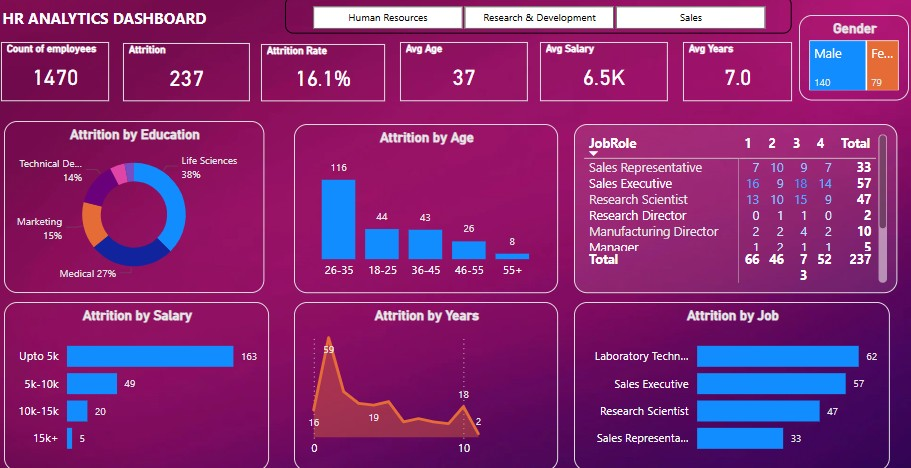

Layout of this report page (visuals, bound fields, positions):
{"tool":"powerbi","page":{"name":"Page 1","canvas":[1280,720],"ordinal":0},"visuals":[{"type":"card","title":"Count of employees","fields":{"Values":["Count(HR_Analytics.EmpID)"]},"box":[172.8,48.9,115.2,63],"z":0},{"type":"card","title":"Attrition","fields":{"Values":["Sum(HR_Analytics.Attrition_Count)"]},"box":[302.2,50,134.8,62],"z":1000},{"type":"card","title":"Attrition Rate","fields":{"Values":["HR_Analytics.Attrition_Rate"]},"box":[448.9,51.1,131.5,60.9],"z":2000},{"type":"card","title":"Avg Age","fields":{"Values":["Avg(HR_Analytics.Age)"]},"box":[596.7,48.9,135.9,63],"z":3000},{"type":"card","title":"Avg Salary","fields":{"Values":["Avg(HR_Analytics.MonthlyIncome)"]},"box":[745.7,48.9,135.9,63],"z":4000},{"type":"card","title":"Avg Years","fields":{"Values":["Avg(HR_Analytics.YearsAtCompany)"]},"box":[897.8,48.9,116.3,63],"z":5000},{"type":"donutChart","title":"Attrition by Education","fields":{"Category":["HR_Analytics.EducationField"],"Y":["Sum(HR_Analytics.Attrition_Count)"]},"box":[172.8,135.9,276.1,183.7],"z":6000},{"type":"columnChart","title":"Attrition by Age","fields":{"Category":["HR_Analytics.AgeGroup"],"Y":["Sum(HR_Analytics.Attrition_Count)"]},"box":[477.2,139.1,281.5,180.4],"z":7000},{"type":"pivotTable","fields":{"Rows":["HR_Analytics.JobRole"],"Columns":["HR_Analytics.JobSatisfaction"],"Values":["Sum(HR_Analytics.Attrition_Count)"]},"box":[778.3,139.1,344.6,180.4],"z":8000},{"type":"barChart","title":"Attrition by Salary","fields":{"Category":["HR_Analytics.SalarySlab"],"Y":["Sum(HR_Analytics.Attrition_Count)"]},"box":[172.8,338,281.5,180.4],"z":9000},{"type":"barChart","title":"Attrition by Job","fields":{"Y":["Sum(HR_Analytics.Attrition_Count)"],"Category":["HR_Analytics.JobRole"]},"box":[785.9,338,337,180.4],"z":10000},{"type":"areaChart","title":"Attrition by Years","fields":{"Category":["HR_Analytics.YearsAtCompany"],"Y":["Sum(HR_Analytics.Attrition_Count)"]},"box":[482.6,338,281.5,180.4],"z":11000},{"type":"treemap","title":"Gender","fields":{"Group":["HR_Analytics.Gender"],"Values":["Sum(HR_Analytics.Attrition_Count)"]},"box":[1022.8,20.7,116.3,91.3],"z":12000},{"type":"slicer","fields":{"Values":["HR_Analytics.Department"]},"box":[437,0,539.1,40.2],"z":13000},{"type":"textbox","box":[127.2,4.3,309.8,32.6],"z":14000}]}

Visuals, with their boxes on the page's 1280x720 design canvas (x1, y1, x2, y2). These are canvas units, not pixel positions in the 911x468 screenshot, which may show the page scaled, cropped or inside an application window:
"Count of employees" card: box=[173, 49, 288, 112]
"Attrition" card: box=[302, 50, 437, 112]
"Attrition Rate" card: box=[449, 51, 580, 112]
"Avg Age" card: box=[597, 49, 733, 112]
"Avg Salary" card: box=[746, 49, 882, 112]
"Avg Years" card: box=[898, 49, 1014, 112]
"Attrition by Education" donutChart: box=[173, 136, 449, 320]
"Attrition by Age" columnChart: box=[477, 139, 759, 320]
pivotTable - HR_Analytics.JobRole x HR_Analytics.JobSatisfaction: box=[778, 139, 1123, 320]
"Attrition by Salary" barChart: box=[173, 338, 454, 518]
"Attrition by Job" barChart: box=[786, 338, 1123, 518]
"Attrition by Years" areaChart: box=[483, 338, 764, 518]
"Gender" treemap: box=[1023, 21, 1139, 112]
slicer - HR_Analytics.Department: box=[437, 0, 976, 40]
textbox: box=[127, 4, 437, 37]
